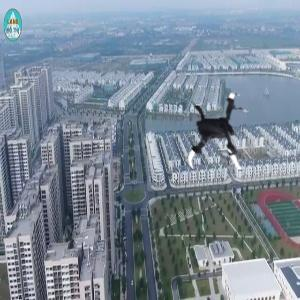drone: (170, 82, 268, 180)
